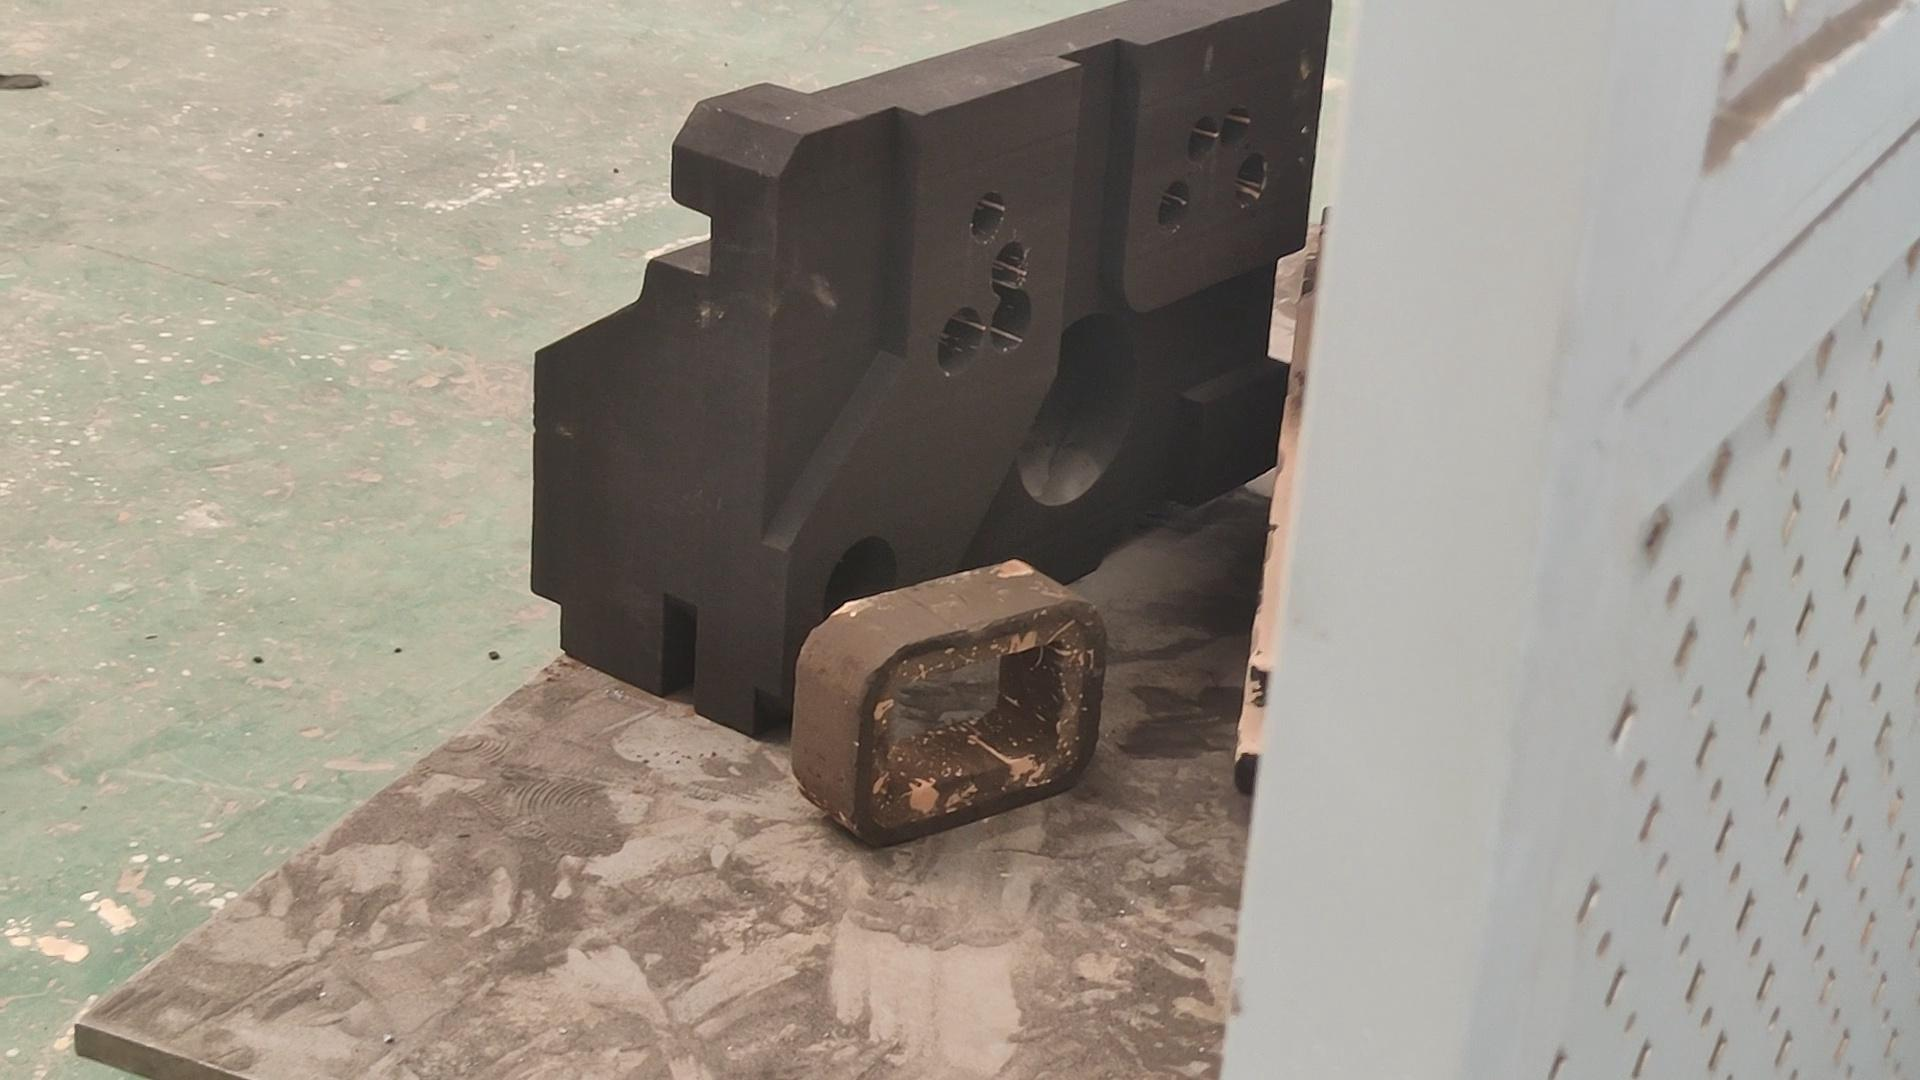pouring hole: (820, 535, 899, 625)
